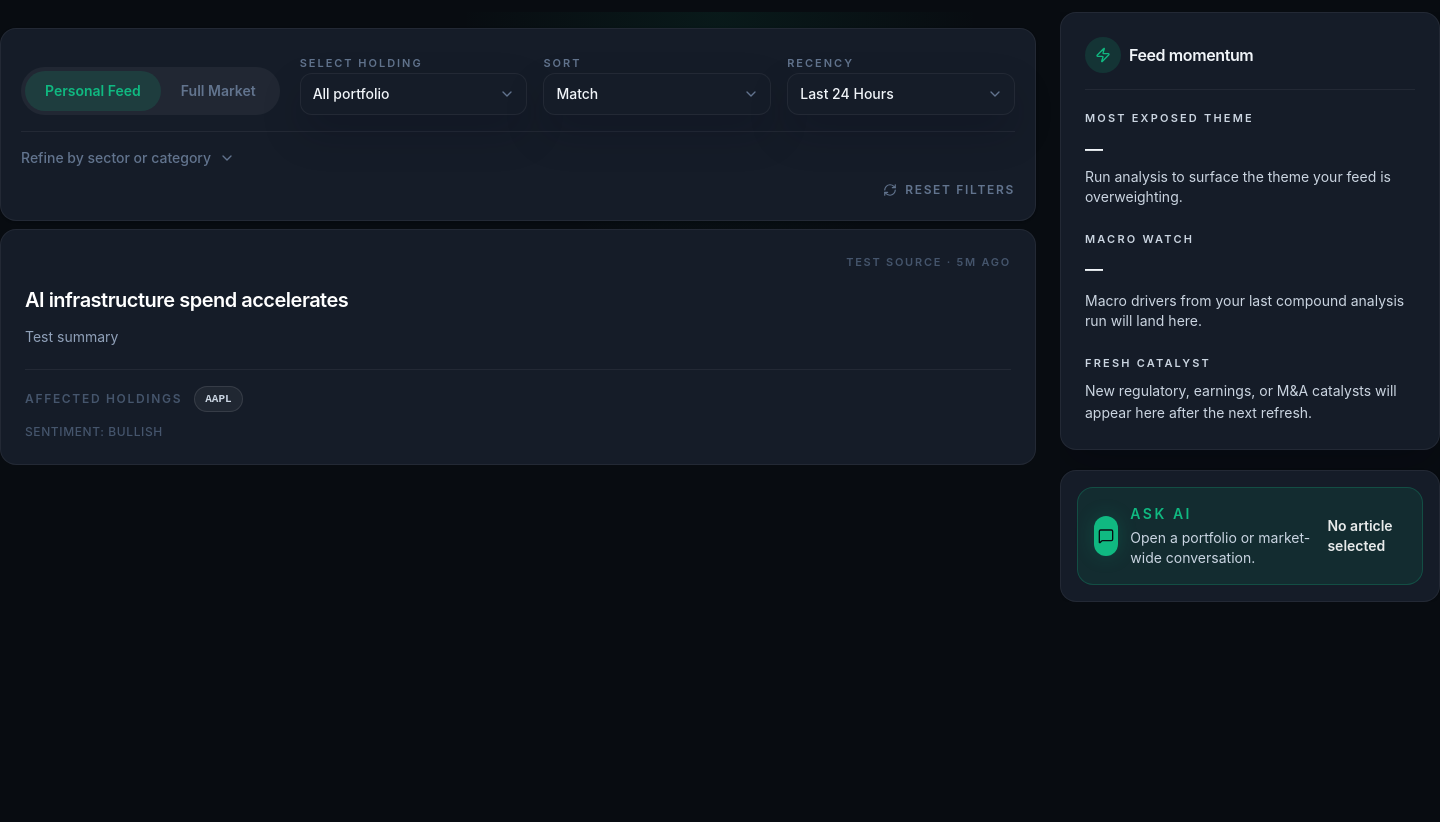
FeedView › loads and sends article chat messages in the desktop detail slot
Click the heading "AI infrastructure spend accelerates" at (187, 300), box [25, 288, 348, 312]
(page scrolled)
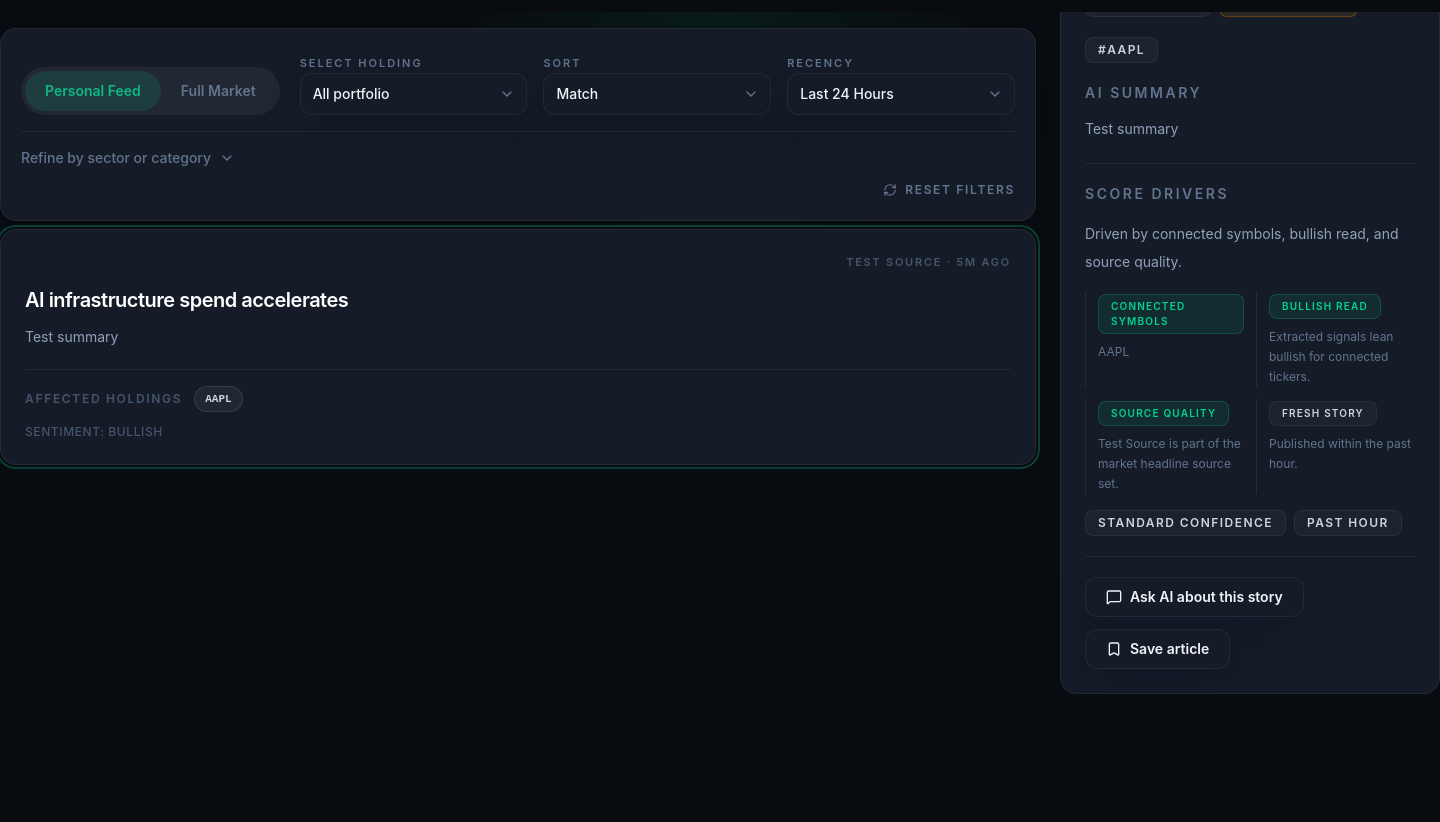
Click the button "Ask AI about this story" at (1194, 596), box [1085, 576, 1304, 616]
(page scrolled)
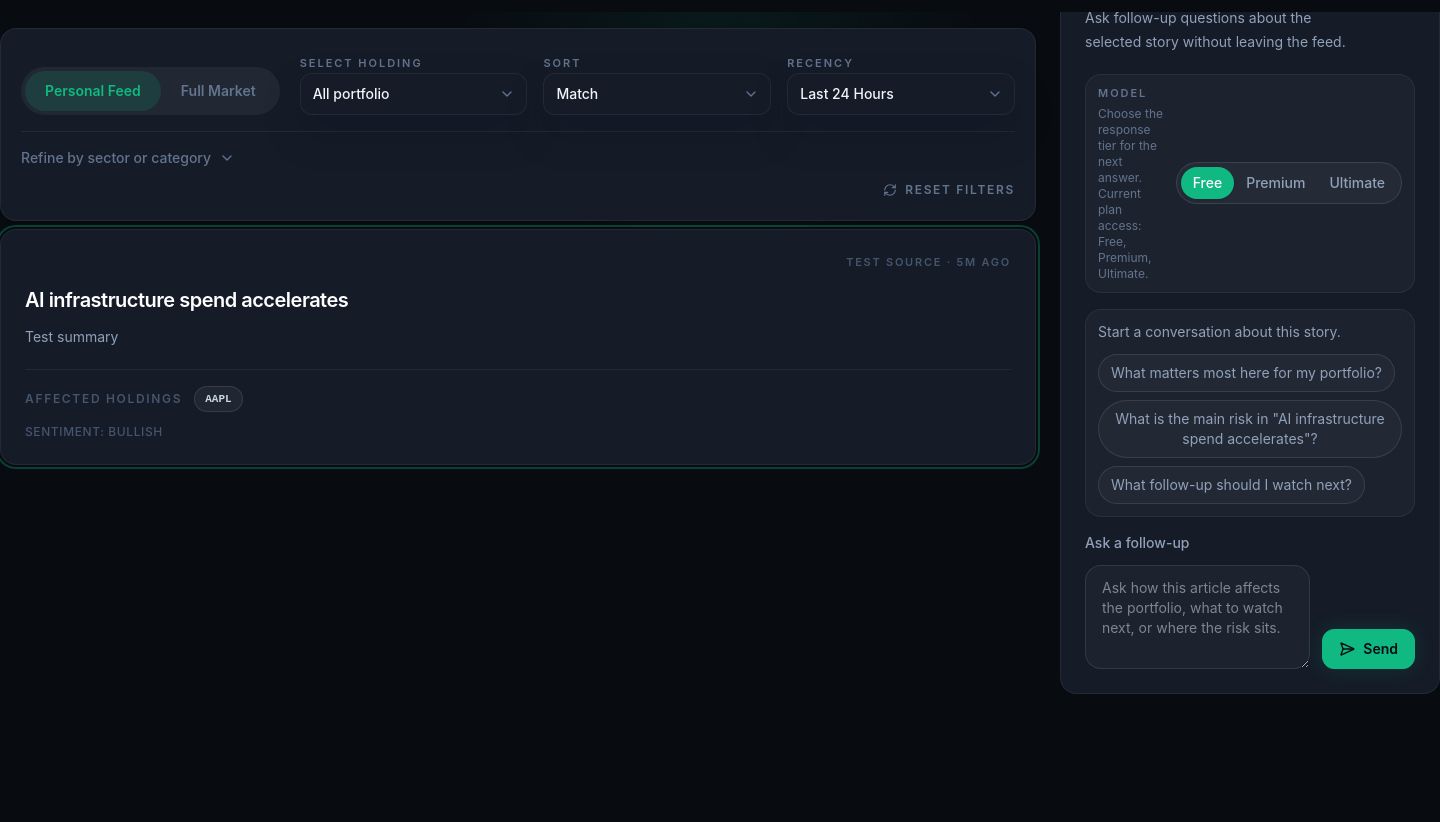
Replace the text in the text box labelled "Ask a follow-up" with "What matters most here for my portfolio?" at (1198, 616), box [1085, 564, 1310, 668]
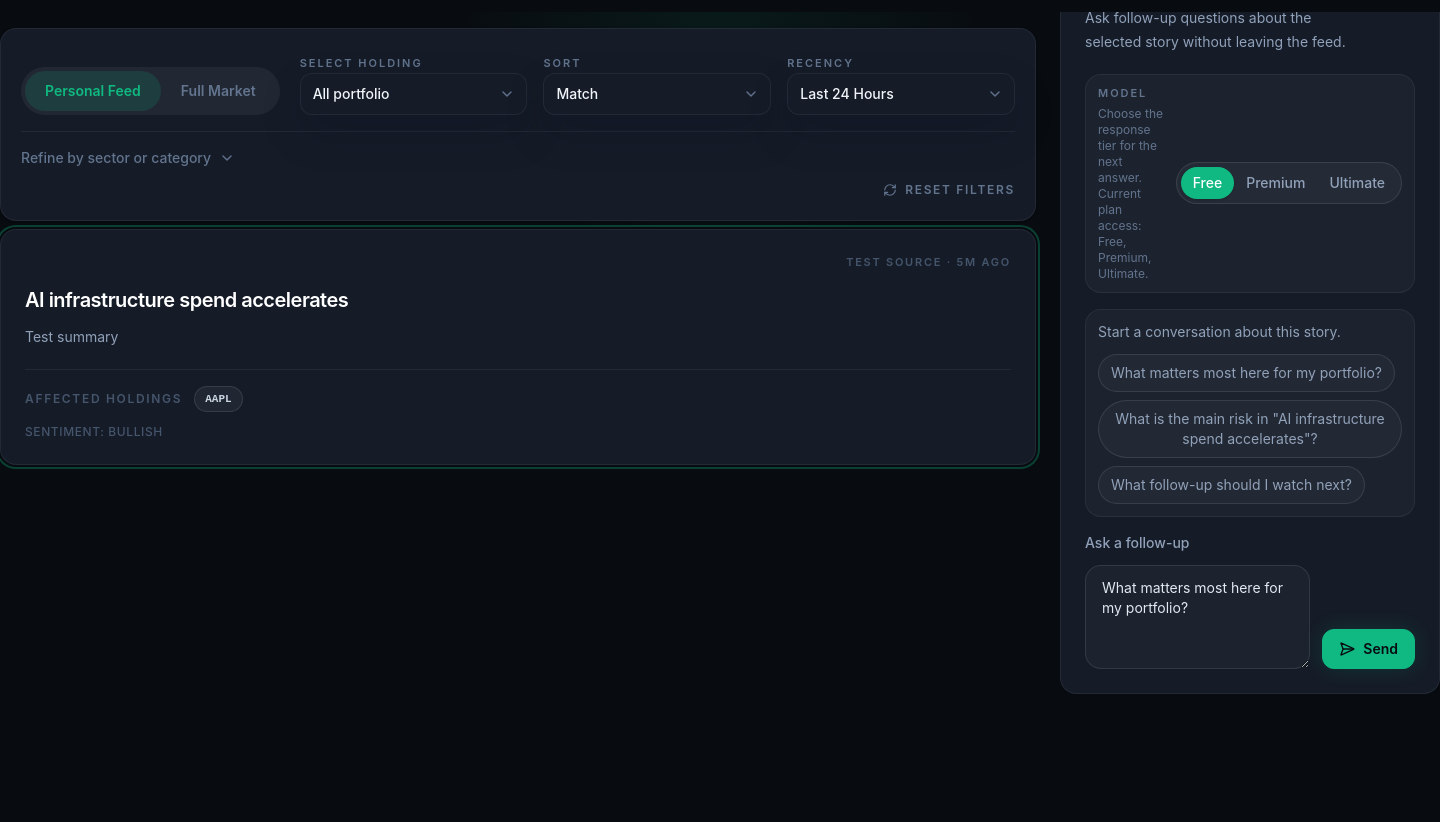
Click the button "Send" at (1369, 648), box [1322, 628, 1415, 668]
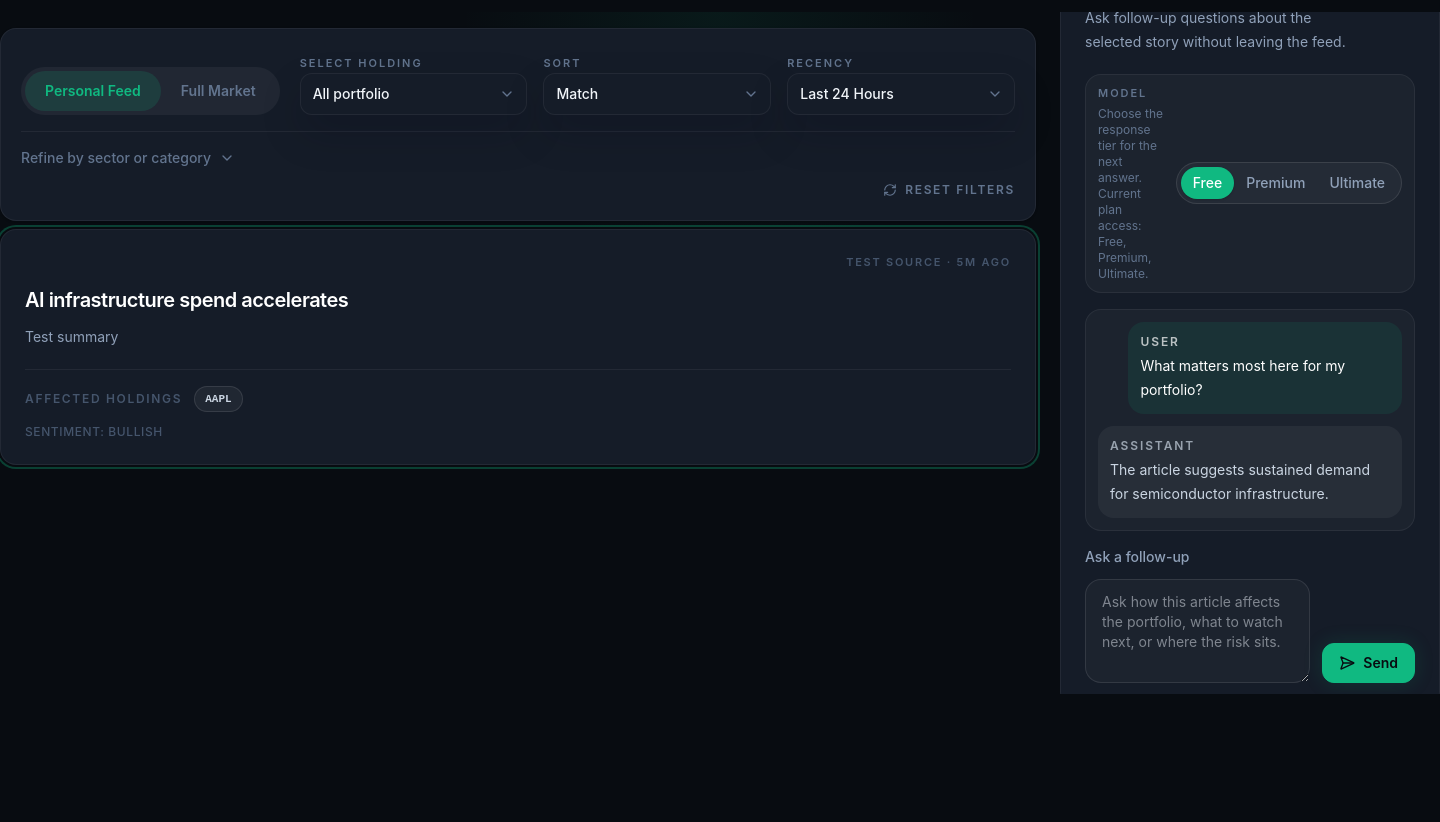
Now the text "sustained demand for semiconductor infrastructure" is shown, box [1110, 460, 1374, 502]
